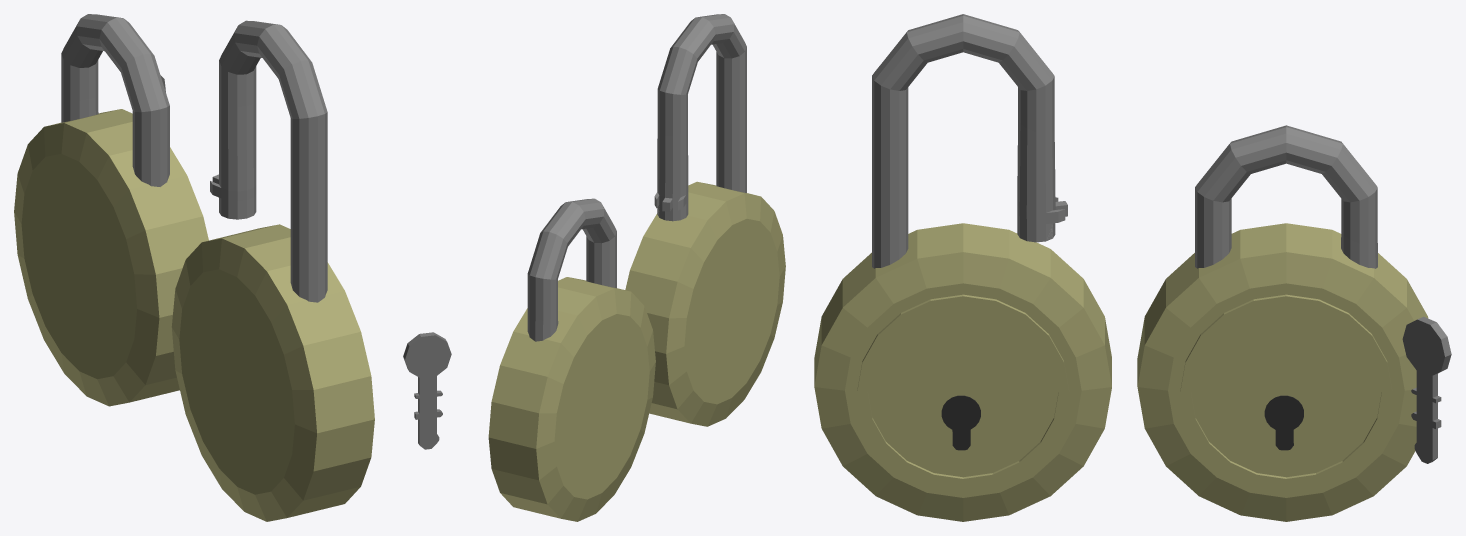
File: ZamOk.fbx
3 renders of one model, left to right at view 1: azimuth 30°, elevation 25°; view 2: azimuth 150°, elevation 25°; view 3: azimuth 270°, elevation 25°, orthographic. The views are drawn at different scales.
Visible parts, largest first — view 1: Cylinder.004, Cylinder, Torus.001, Torus; view 2: Cylinder, Cylinder.004, Torus.001, Torus, Cylinder.002; view 3: Cylinder.004, Cylinder, Torus.001, Torus, Cylinder.002, Cylinder.003, Cylinder.001.
Boxes of the visible parts, left/top/right/bottom form: Cylinder.004: left=171, top=224, right=374, bottom=521; Cylinder: left=14, top=109, right=208, bottom=406; Torus.001: left=210, top=20, right=327, bottom=302; Torus: left=61, top=14, right=169, bottom=186; Cylinder: left=488, top=277, right=655, bottom=521; Cylinder.004: left=625, top=181, right=785, bottom=426; Torus.001: left=654, top=14, right=746, bottom=221; Torus: left=527, top=198, right=616, bottom=341; Cylinder.002: left=403, top=332, right=451, bottom=449; Cylinder.004: left=814, top=223, right=1111, bottom=521; Cylinder: left=1137, top=223, right=1428, bottom=521; Torus.001: left=872, top=14, right=1067, bottom=268; Torus: left=1195, top=125, right=1377, bottom=268; Cylinder.002: left=1402, top=316, right=1451, bottom=463; Cylinder.003: left=941, top=395, right=980, bottom=450; Cylinder.001: left=1264, top=395, right=1303, bottom=450.
Bounding box in the file's own units: 388 × 1084 × 1273.
